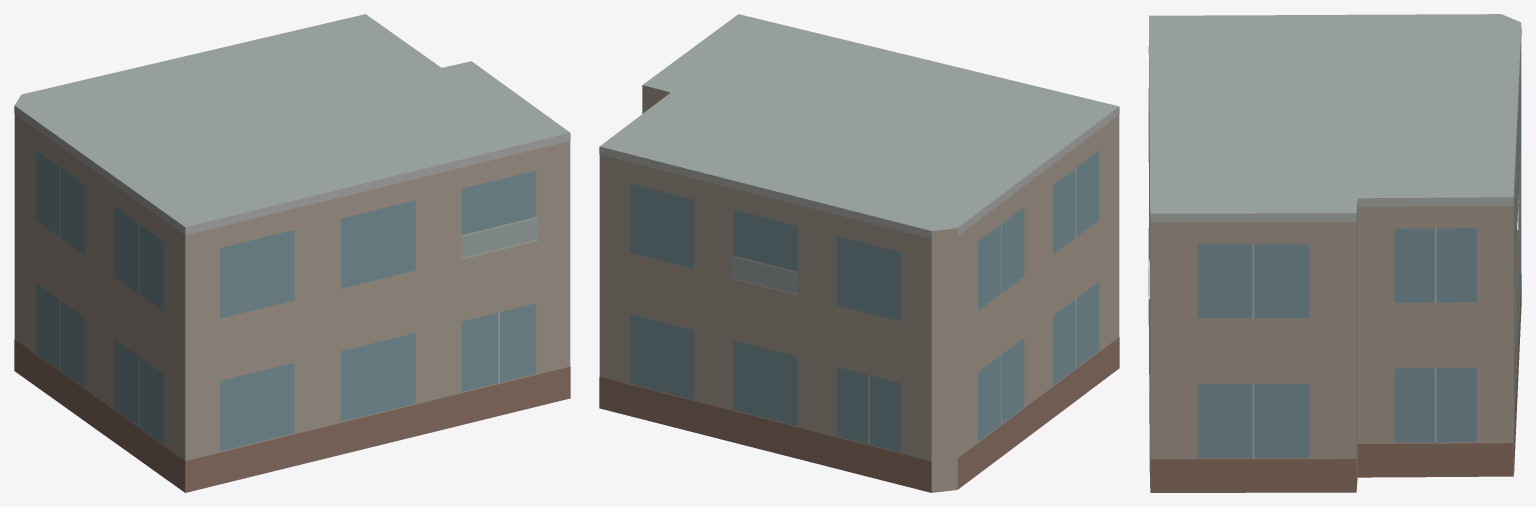
File: survey-upis-32494963.glb
The picture shows the model from 3 angles, left to right: view 1: azimuth 30°, elevation 25°; view 2: azimuth 150°, elevation 25°; view 3: azimuth 270°, elevation 25°; orthographic projection. The views are drawn at different scales.
Visible parts, largest first — view 1: survey-upis-32494963.tmp; view 2: survey-upis-32494963.tmp; view 3: survey-upis-32494963.tmp.
Part boxes in pixels (x1,y1,x2,y2): survey-upis-32494963.tmp: (14, 14, 570, 492); survey-upis-32494963.tmp: (599, 14, 1119, 492); survey-upis-32494963.tmp: (1148, 14, 1521, 492).
Bounding box in the file's own units: 12.2 × 7.95 × 9.64.
